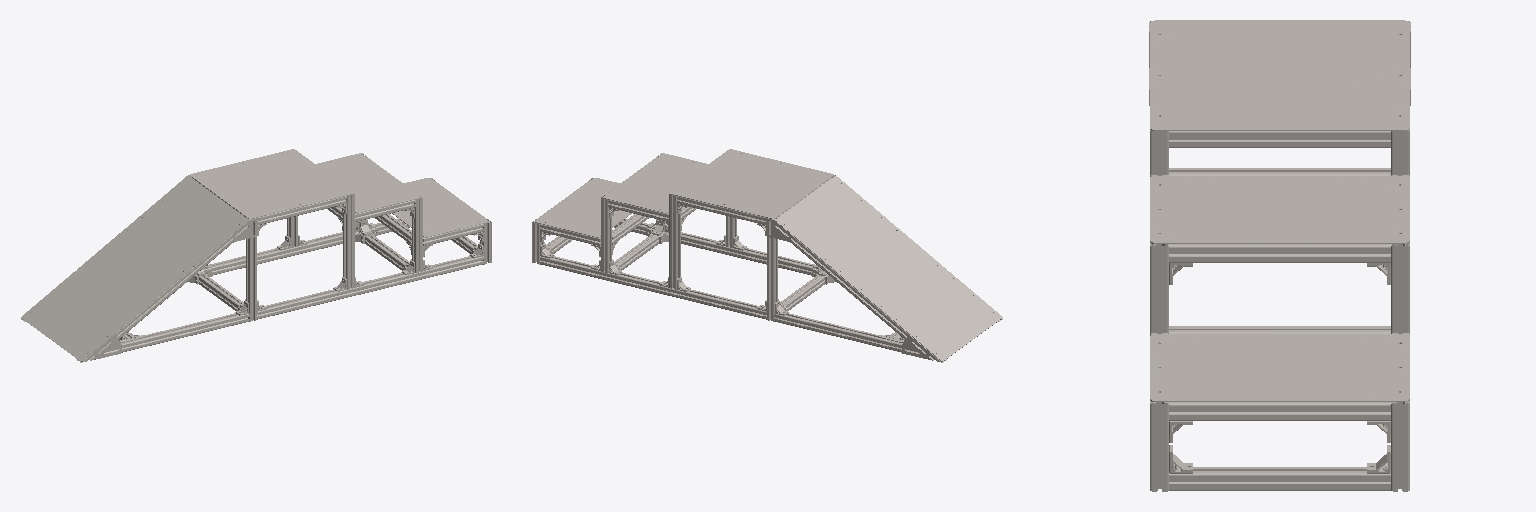
URDF robot description (myrobot2):
<?xml version="1.0" encoding="utf-8"?>
<!-- This URDF was automatically created by SolidWorks to URDF Exporter! Originally created by [author] ([email redacted]) 
     Commit Version: 1.6.0-4-g7f85cfe  Build Version: 1.6.7995.38578
     For more information, please see http://wiki.ros.org/sw_urdf_exporter -->
<robot
  name="myrobot2">

    <link name="world">
  </link>
  <joint name="world_joint" type="fixed">
    <parent link="world"/>
    <child link="base_link"/>
  </joint>


  <link
    name="base_link">
    <inertial>
      <origin
        xyz="-1.83450203172901 0.142276541425279 2.10350874216609"
        rpy="0 0 0" />
      <mass
        value="55.0687083644952" />
      <inertia
        ixx="0.935368599462166"
        ixy="-0.129053601896683"
        ixz="-1.04938127713822E-08"
        iyy="1.72350394187313"
        iyz="-3.77617773319357E-09"
        izz="1.06328898234369" />
    </inertial>
    <visual>
      <origin
        xyz="0 0 0"
        rpy="0 0 0" />
      <geometry>
        <mesh
          filename="package://whell_describe/meshes/obstacle.STL" />
      </geometry>
      <material
        name="">
        <color
          rgba="0.776470588235294 0.756862745098039 0.737254901960784 1" />
      </material>
    </visual>
    <collision>
      <origin
        xyz="0 0 0"
        rpy="0 0 0" />
      <geometry>
        <mesh
          filename="package://whell_describe/meshes/obstacle.STL" />
      </geometry>
    </collision>
  </link>
</robot>

--- What the picture shows (computed from the rendered views, not written in the file) ---
The picture shows the robot from 3 angles, left to right: view 1: azimuth 30°, elevation 25°; view 2: azimuth 150°, elevation 25°; view 3: azimuth 270°, elevation 25°; orthographic projection.
Robot: myrobot2 — 2 links, 1 joints (1 fixed); root link world; default pose: all joints at 0.
Links seen in each view (by area): view 1: base_link; view 2: base_link; view 3: base_link.
Link boxes in pixels (x1,y1,x2,y2): base_link: (21, 149, 491, 362); base_link: (532, 149, 1002, 362); base_link: (1149, 20, 1410, 491).
Bounding box of the posed robot: 2.1 × 0.546 × 0.503 m (x, y, z).
Meshes: 1 distinct files referenced, 1 mesh visuals loaded (1 binary STL).